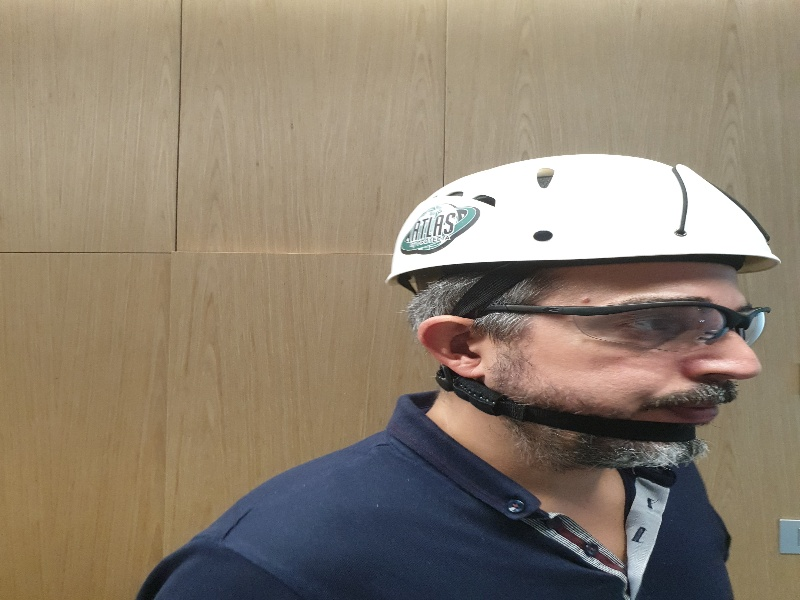Baret: (384, 154, 780, 283)
Gozluk: (473, 301, 775, 349)
